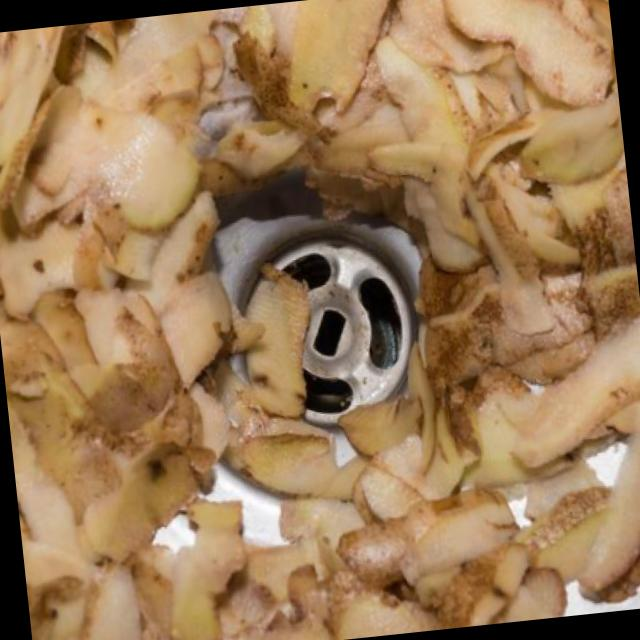paper: (3, 54, 215, 250), (438, 0, 621, 141)
